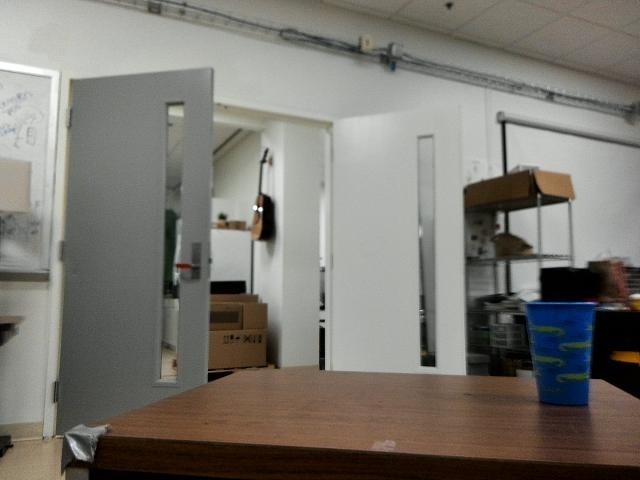water_cup: (510, 291, 600, 416)
